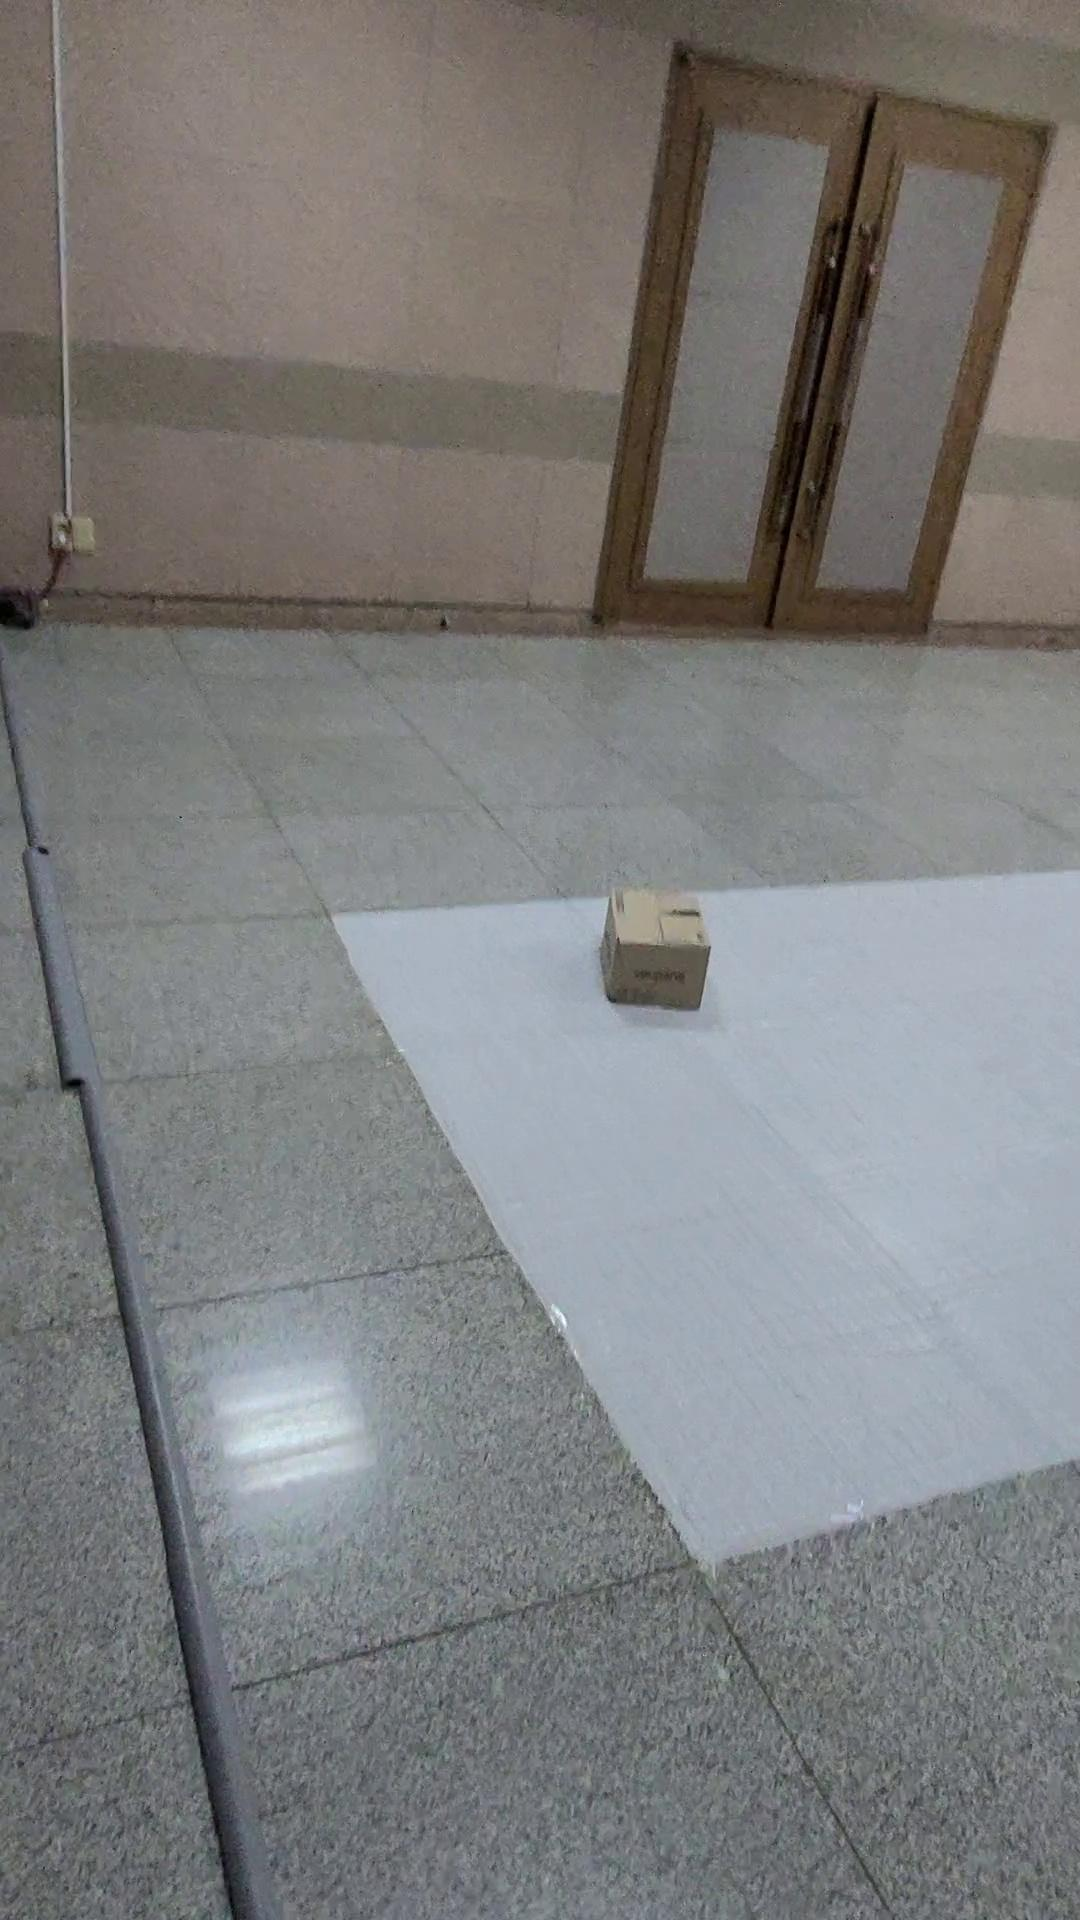Box: (574, 858, 729, 1007)
